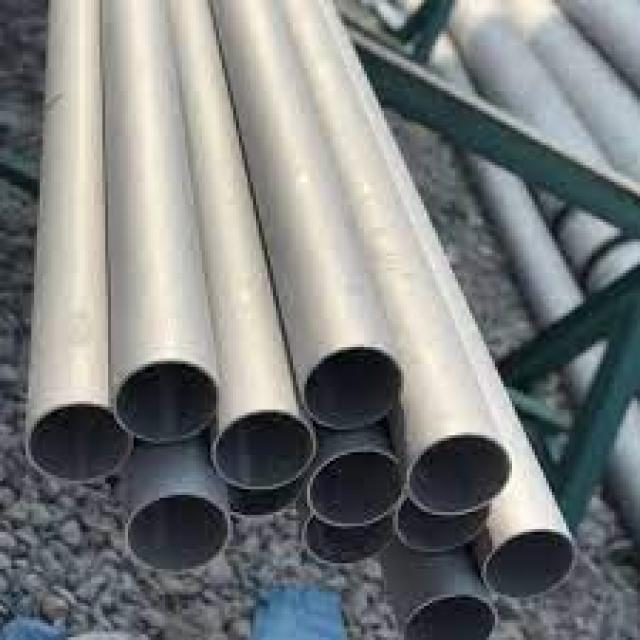pipe: (308, 454, 402, 564), (117, 363, 214, 444), (412, 436, 509, 516), (214, 413, 314, 490), (306, 348, 398, 431), (29, 406, 127, 482), (128, 496, 227, 570), (487, 533, 574, 598), (398, 501, 488, 553), (307, 519, 393, 564)
